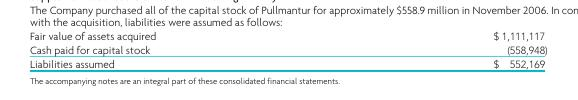table: (28, 28, 546, 69)
table column: (28, 28, 323, 69), (323, 28, 546, 69)
table row: (28, 28, 546, 42), (28, 42, 546, 56), (28, 56, 546, 69)
